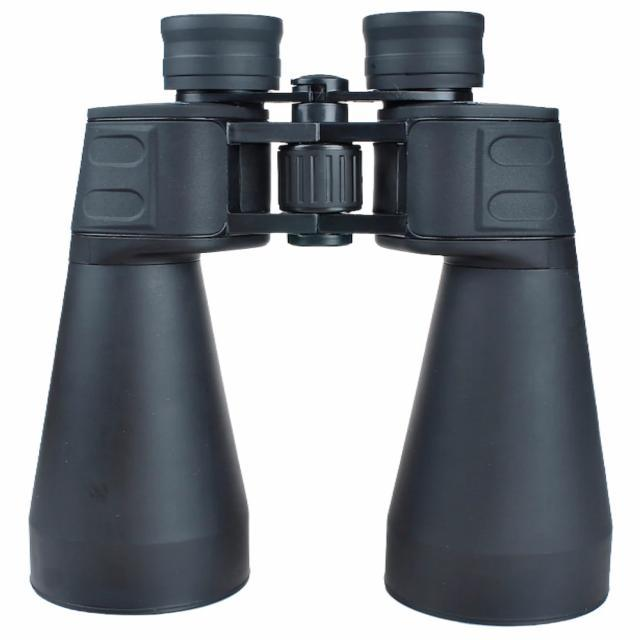Binocular: (17, 4, 619, 624)
